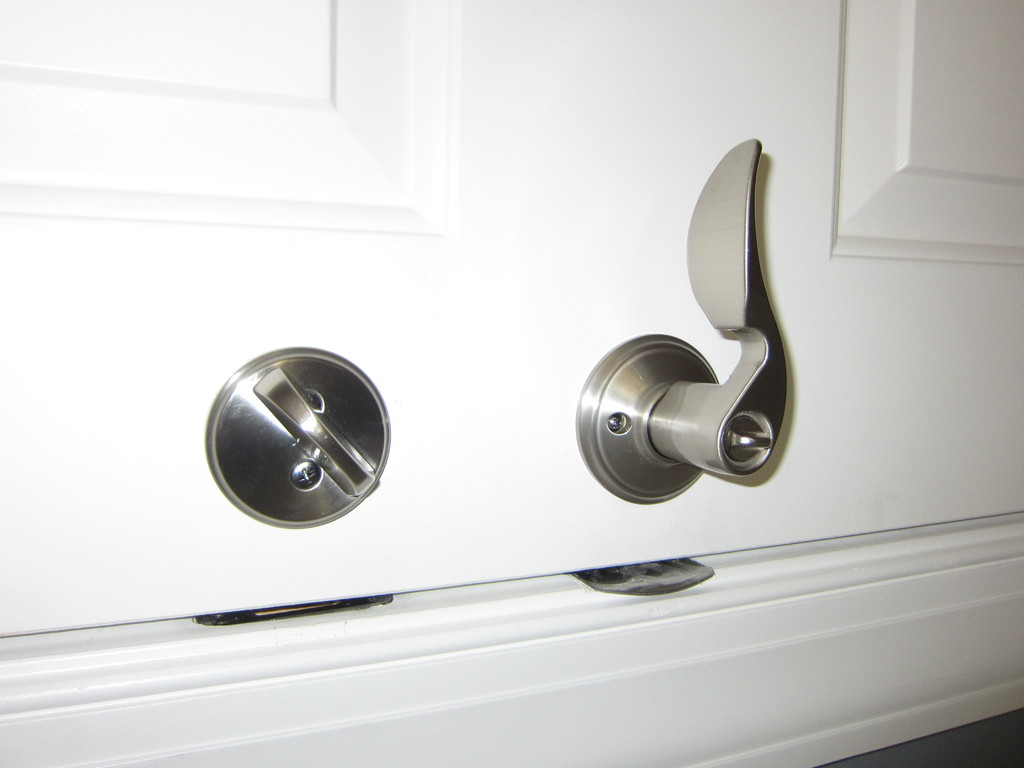door: (0, 26, 1024, 513)
handle: (650, 132, 819, 484)
